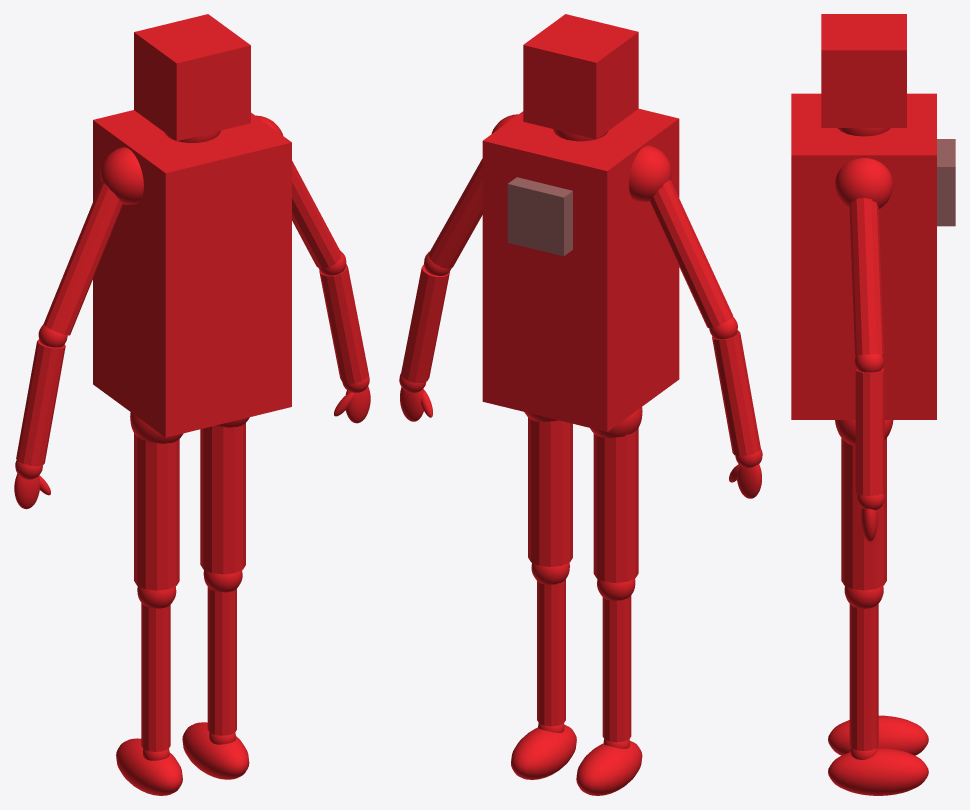
File: player1.obj
The picture shows the model from 3 angles, left to right: view 1: azimuth 30°, elevation 25°; view 2: azimuth 150°, elevation 25°; view 3: azimuth 270°, elevation 25°; orthographic projection.
Bounding box in the file's own units: 14.26 × 28.23 × 5.64.
2 materials, 1 textured.
